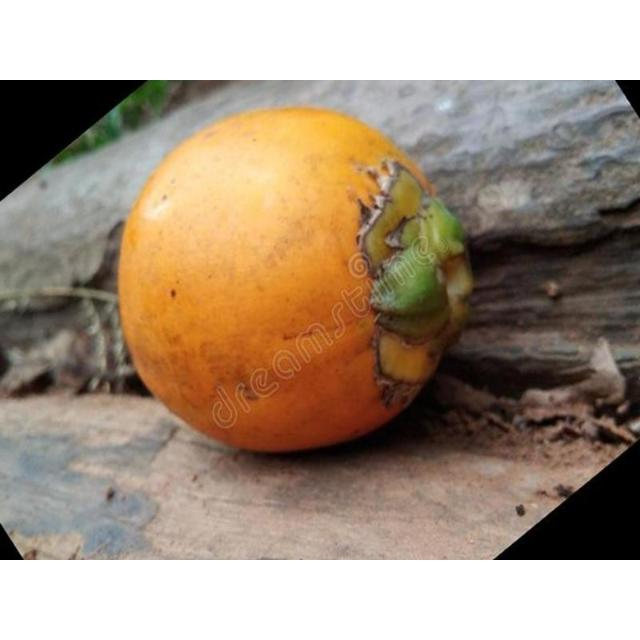good: (116, 106, 474, 456)
